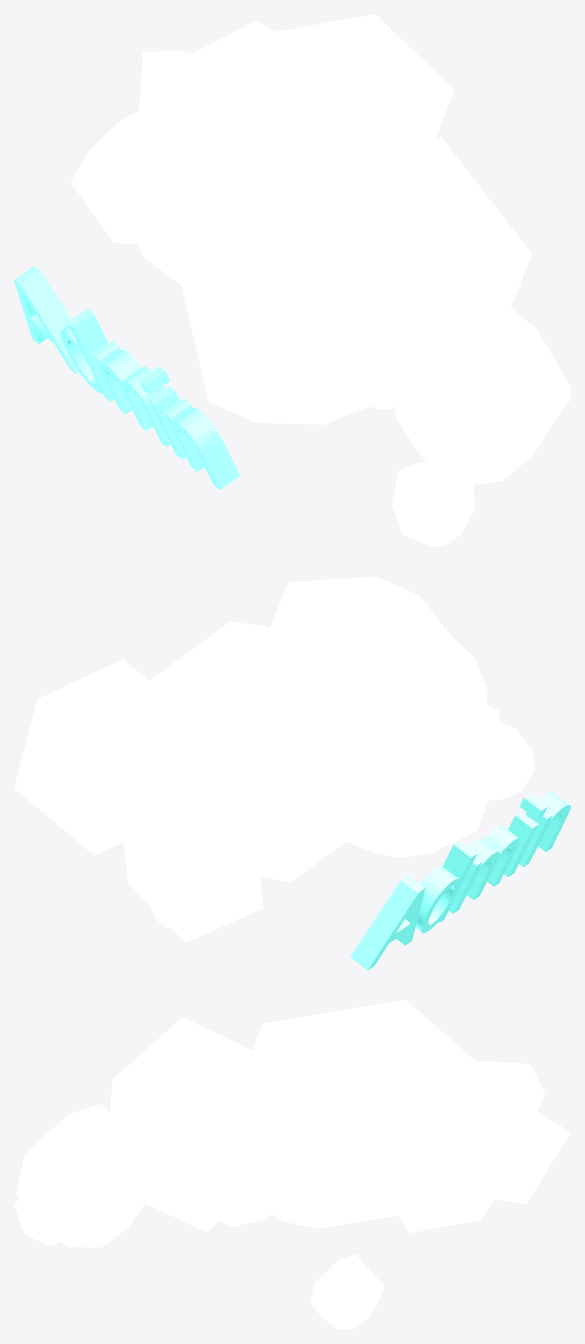
File: cloud2.glb
3 views of the same model, one above another, from view 1: azimuth 30°, elevation 25°; view 2: azimuth 150°, elevation 25°; view 3: azimuth 270°, elevation 25° (orthographic). The views are drawn at different scales.
Parts seen in each view (by area): view 1: Объект_Платоново_тело1_2, Объект_Платоново_тело_8, Объект_Платоново_тело1_1, Объект_Платоново_тело_2, 3d-drawingglb, Объект_Платоново_тело_7, Объект_Платоново_тело_1, Объект_Платоново_тело_5, Объект_Платоново_тело_6; view 2: Объект_Платоново_тело1_2, Объект_Платоново_тело1_1, Объект_Платоново_тело_7, Объект_Платоново_тело_8, 3d-drawingglb, Объект_Платоново_тело_5, Объект_Платоново_тело_6, Объект_Платоново_тело_3, Объект_Платоново_тело_1, Объект_Платоново_тело_2; view 3: Объект_Платоново_тело1_2, Объект_Платоново_тело_8, Объект_Платоново_тело_7, Объект_Платоново_тело_2, Объект_Платоново_тело_4, Объект_Платоново_тело_6, Объект_Платоново_тело_5, Объект_Платоново_тело1_1, Объект_Платоново_тело_1.
Part boxes in pixels (x1,y1,x2,y2): Объект_Платоново_тело1_2: (119, 21, 430, 285); Объект_Платоново_тело_8: (254, 137, 531, 414); Объект_Платоново_тело1_1: (176, 199, 431, 424); Объект_Платоново_тело_2: (394, 279, 570, 485); 3d-drawingglb: (14, 266, 240, 489); Объект_Платоново_тело_7: (239, 14, 454, 197); Объект_Платоново_тело_1: (392, 462, 474, 547); Объект_Платоново_тело_5: (70, 111, 245, 243); Объект_Платоново_тело_6: (139, 51, 236, 162); Объект_Платоново_тело1_2: (116, 621, 413, 882); Объект_Платоново_тело1_1: (271, 656, 499, 857); Объект_Платоново_тело_7: (14, 659, 203, 855); Объект_Платоново_тело_8: (237, 576, 475, 797); 3d-drawingglb: (350, 791, 570, 970); Объект_Платоново_тело_5: (121, 786, 263, 942); Объект_Платоново_тело_6: (118, 735, 236, 857); Объект_Платоново_тело_3: (154, 809, 244, 888); Объект_Платоново_тело_1: (488, 722, 534, 800); Объект_Платоново_тело_2: (452, 637, 487, 703); Объект_Платоново_тело1_2: (213, 999, 497, 1228); Объект_Платоново_тело_8: (106, 1017, 282, 1232); Объект_Платоново_тело_7: (361, 1080, 522, 1232); Объект_Платоново_тело_2: (16, 1103, 158, 1247); Объект_Платоново_тело_4: (311, 1254, 384, 1329); Объект_Платоново_тело_6: (464, 1060, 545, 1147); Объект_Платоново_тело_5: (493, 1086, 570, 1204); Объект_Платоново_тело1_1: (155, 1053, 321, 1226); Объект_Платоново_тело_1: (14, 1199, 60, 1245).
Bounding box in the file's own units: 2.96 × 2.5 × 4.36.
